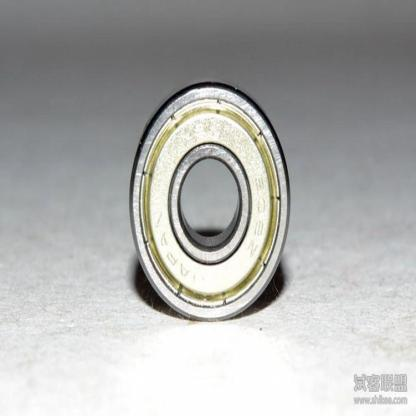FOD: (128, 74, 294, 323)
